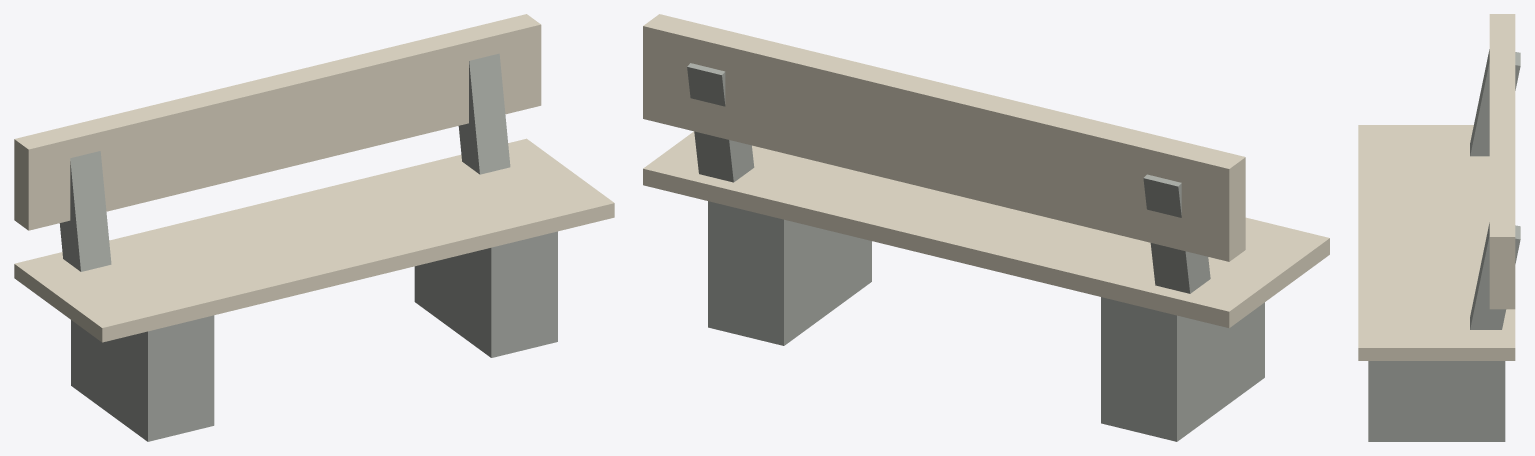
The model's file is StoneBenchBack.glb.
The picture shows the model from 3 angles, left to right: view 1: azimuth 30°, elevation 25°; view 2: azimuth 150°, elevation 25°; view 3: azimuth 270°, elevation 25°; orthographic projection. The views are drawn at different scales.
Visible parts, largest first — view 1: ST_StoneBenchBack_ST_cream.001, ST_StoneBenchBack_ST_stone.001; view 2: ST_StoneBenchBack_ST_cream.001, ST_StoneBenchBack_ST_stone.001; view 3: ST_StoneBenchBack_ST_cream.001, ST_StoneBenchBack_ST_stone.001.
Boxes of the visible parts, x1,y1,x2,y2 form: ST_StoneBenchBack_ST_cream.001: (14,14,614,342); ST_StoneBenchBack_ST_stone.001: (59,53,557,441); ST_StoneBenchBack_ST_cream.001: (643,14,1329,328); ST_StoneBenchBack_ST_stone.001: (687,63,1264,441); ST_StoneBenchBack_ST_cream.001: (1358,14,1515,360); ST_StoneBenchBack_ST_stone.001: (1368,49,1520,441).
Bounding box in the file's own units: 1.85 × 0.88 × 0.5691.
